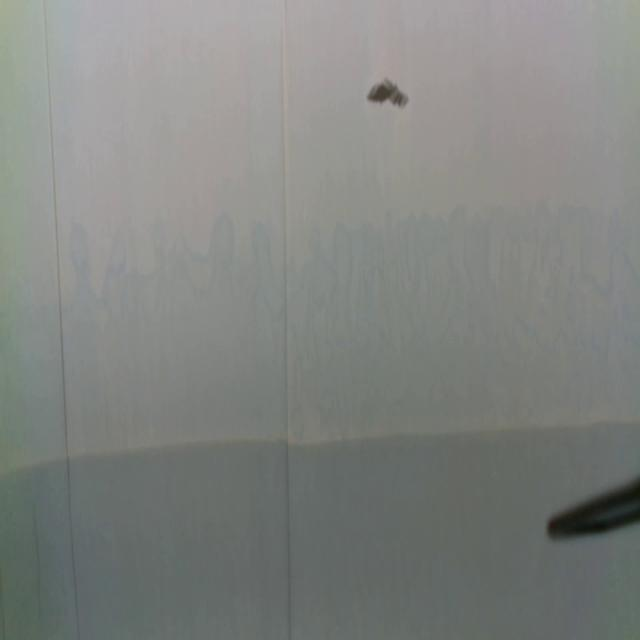color bleeding: (366, 77, 410, 112)
